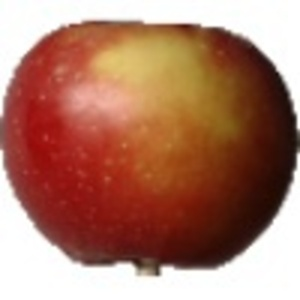maçã braeburn: (1, 16, 299, 270)
